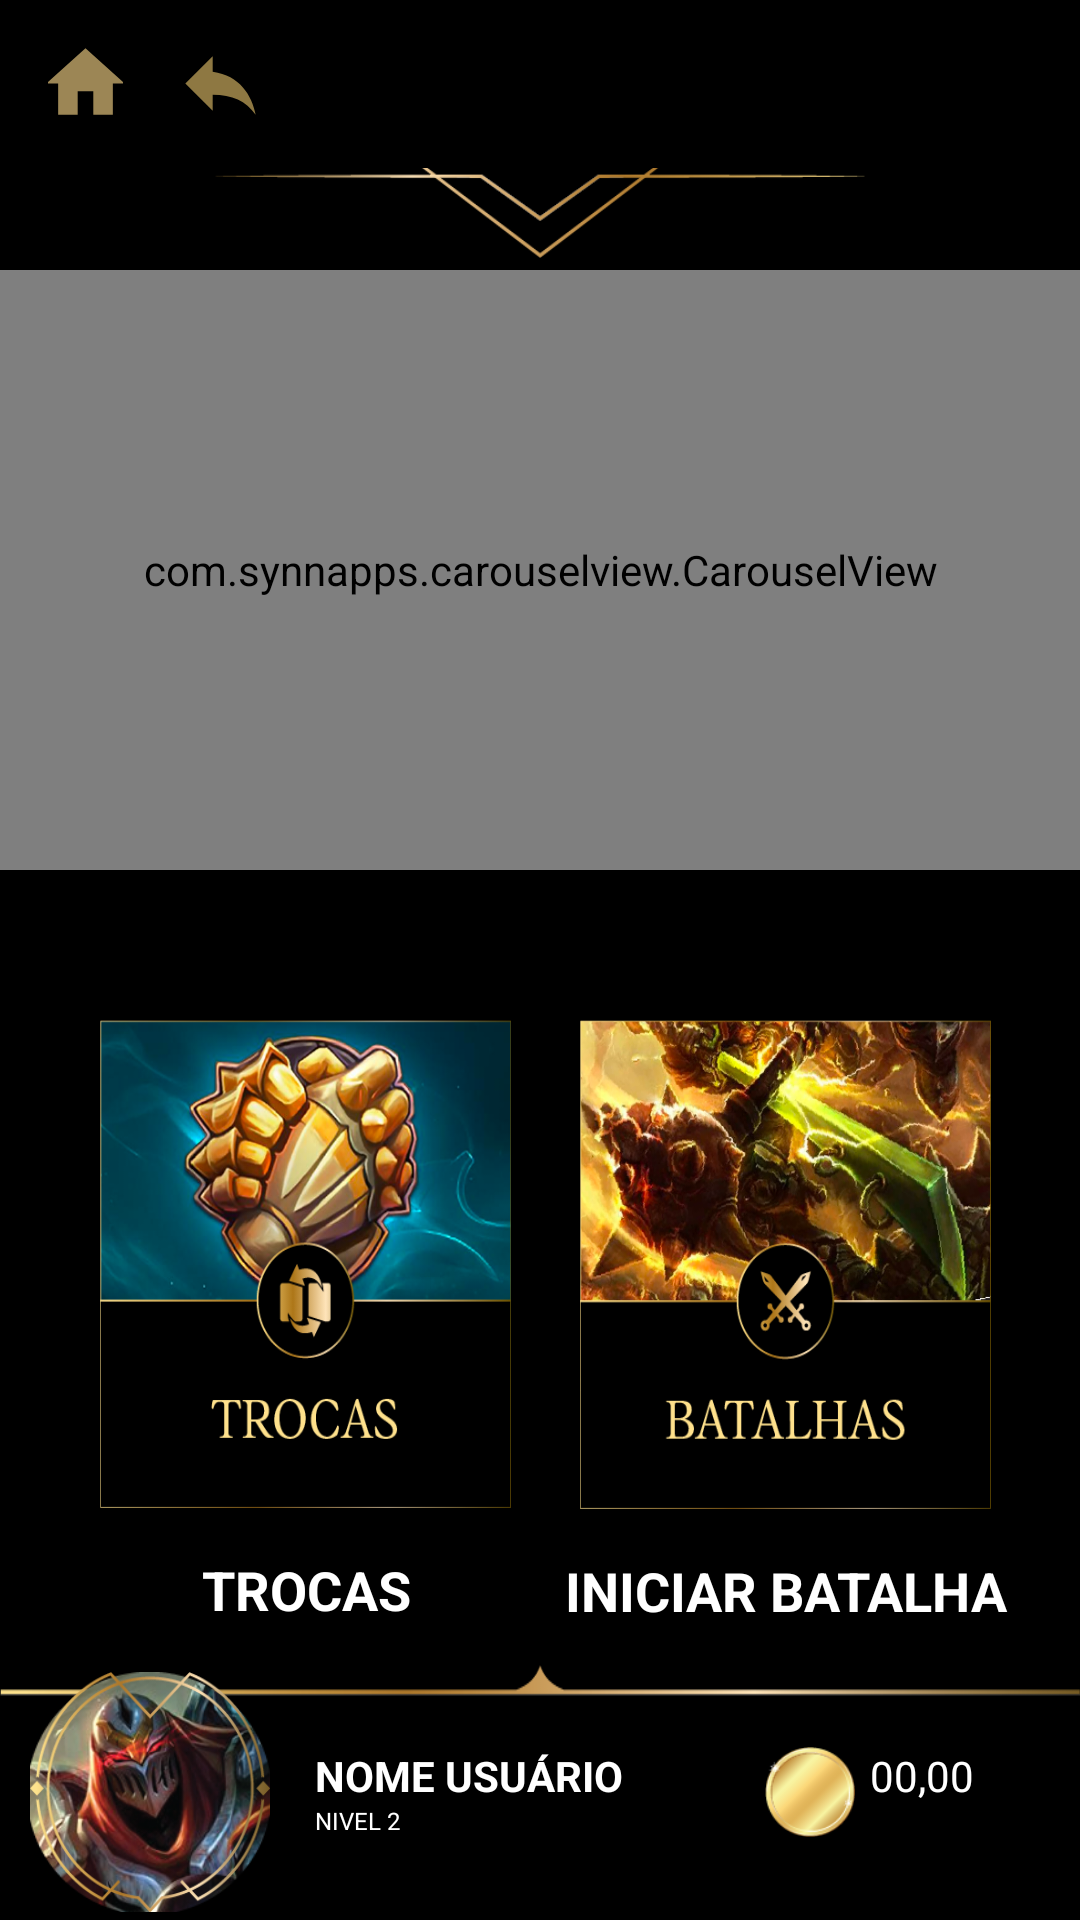

Named icons in this screenshot (1080x1920) and their centers, point (x, y):
backnv: point (220, 85)
homenv: point (85, 81)
rodape moeda: point (810, 1792)
